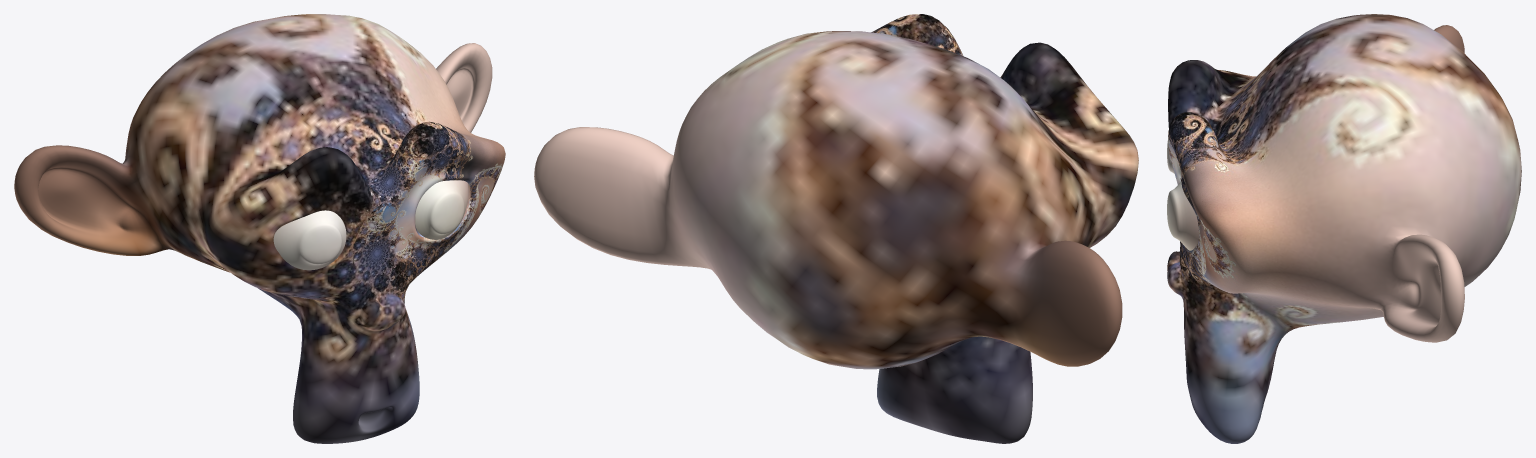
3 renders of one model, left to right at view 1: azimuth 30°, elevation 25°; view 2: azimuth 150°, elevation 25°; view 3: azimuth 270°, elevation 25°, orthographic. The views are drawn at different scales.
Visible parts, largest first — view 1: Suzanne; view 2: Suzanne; view 3: Suzanne.
Part boxes in pixels (bbox=[...]): Suzanne: bbox=[14, 14, 505, 443]; Suzanne: bbox=[534, 14, 1138, 443]; Suzanne: bbox=[1167, 14, 1521, 443].
Bounding box in the file's own units: 2.59 × 1.86 × 1.56.
Materials: 1 (1 with a texture image).
